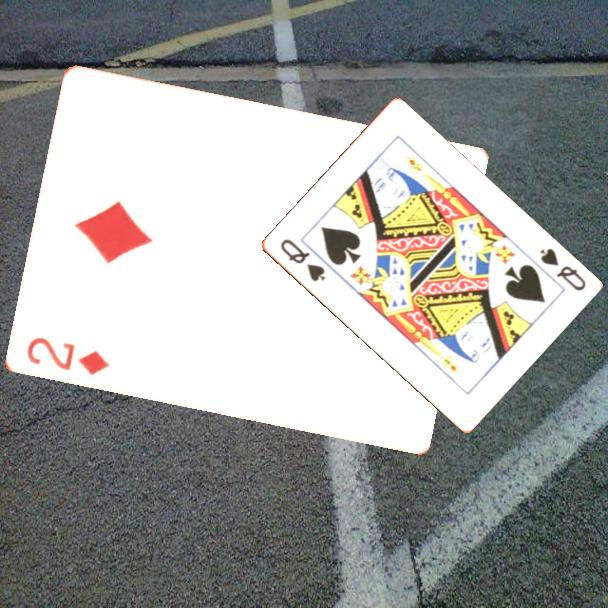d02: (22, 333, 111, 379)
s12: (536, 244, 588, 294), (276, 235, 328, 284)
